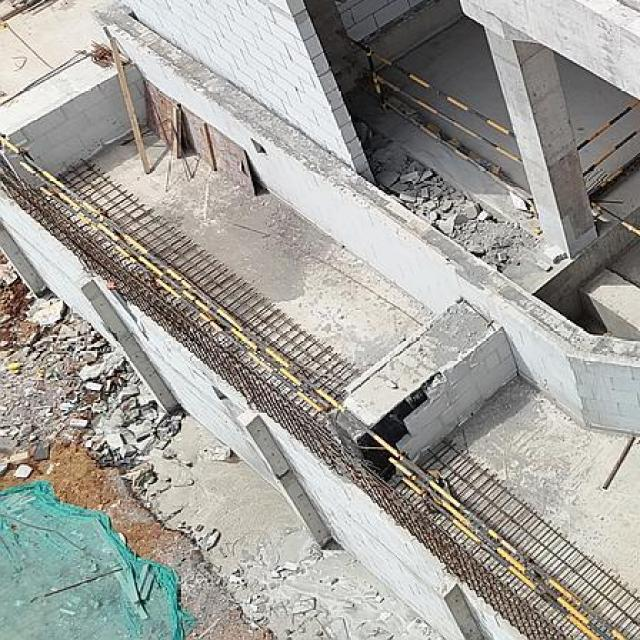Guardrail: (0, 134, 639, 640), (386, 454, 614, 640), (336, 30, 533, 207), (575, 104, 640, 196), (588, 200, 640, 237)
